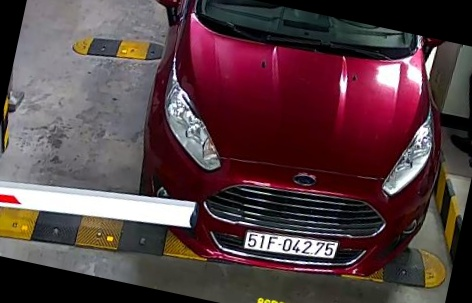plate: (239, 218, 347, 276)
